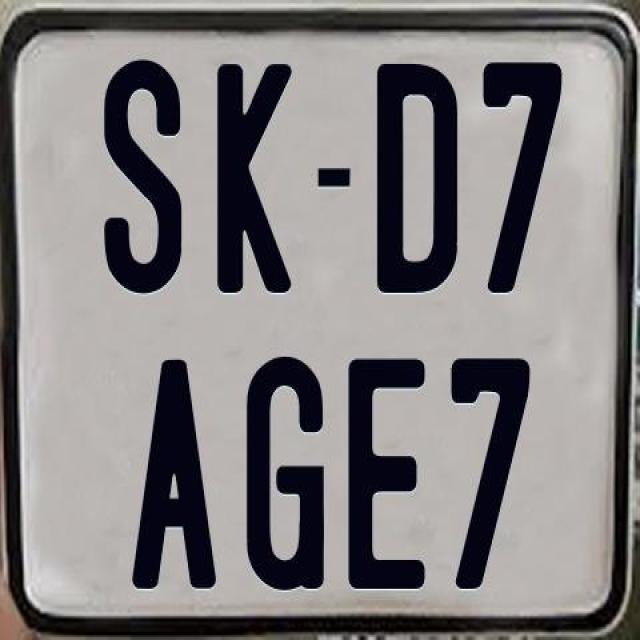7: (482, 58, 568, 292), (446, 356, 530, 594)
A: (130, 360, 218, 595)
D: (376, 61, 459, 296)
E: (345, 356, 427, 590)
G: (242, 356, 322, 598)
K: (213, 63, 295, 300)
S: (100, 58, 184, 299)
